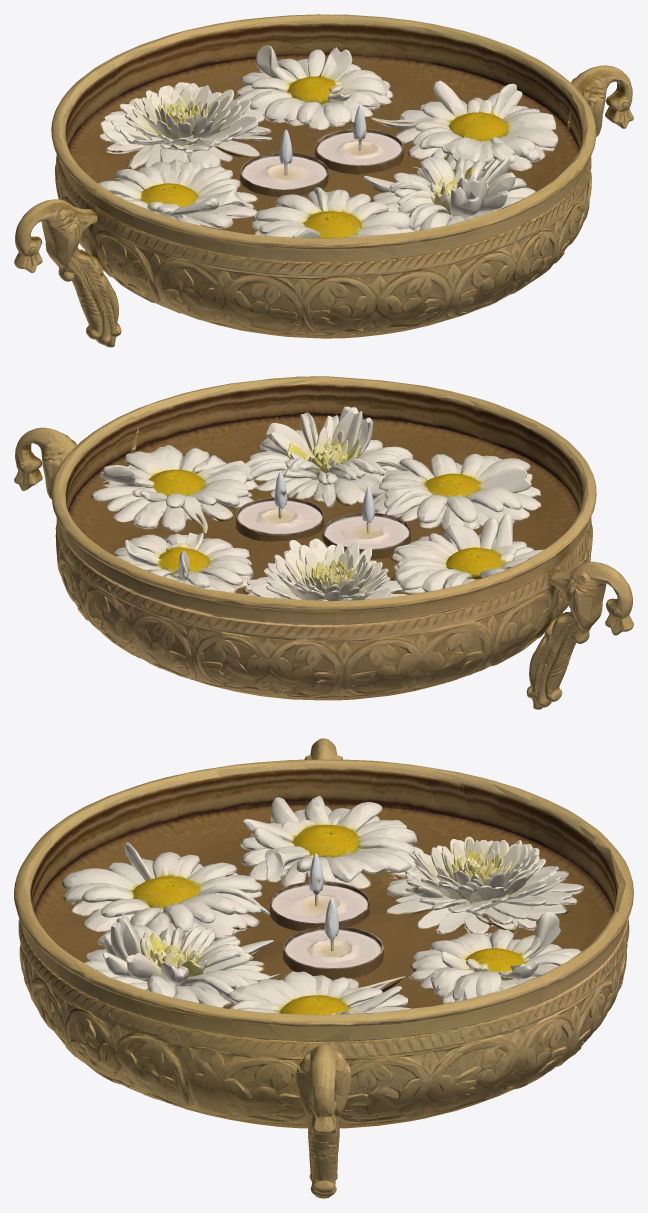
File: behoma-brass-peacock-urli-9-5-inch-floating-flower-bowl-for-.glb
3 views of the same model, one above another, from view 1: azimuth 30°, elevation 25°; view 2: azimuth 150°, elevation 25°; view 3: azimuth 270°, elevation 25° (orthographic). The views are drawn at different scales.
Parts seen in each view (by area): view 1: Mesh_0; view 2: Mesh_0; view 3: Mesh_0.
Part boxes in pixels (<box>): Mesh_0: <box>14,14,633,347</box>; Mesh_0: <box>14,376,633,709</box>; Mesh_0: <box>14,738,633,1198</box>.
Bounding box in the file's own units: 1.9 × 0.5241 × 1.46.
1 material, 1 textured.
